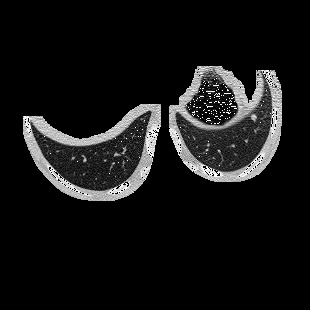PN: (251, 115, 257, 121)
